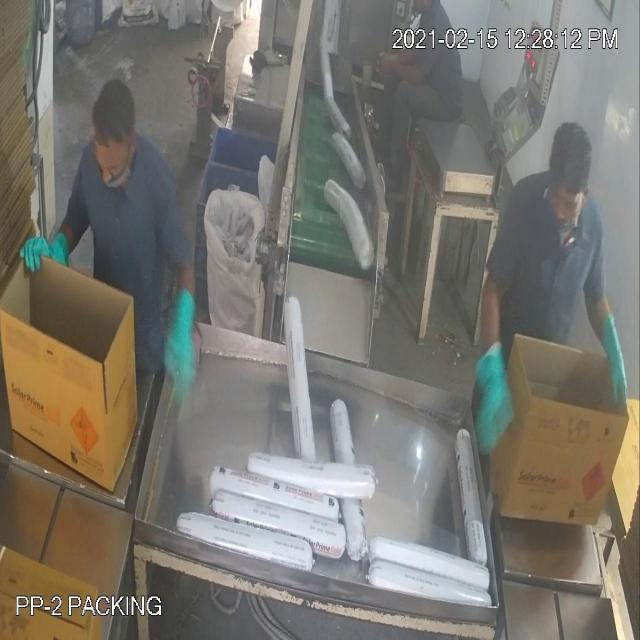Gloves: (34, 50, 614, 386)
